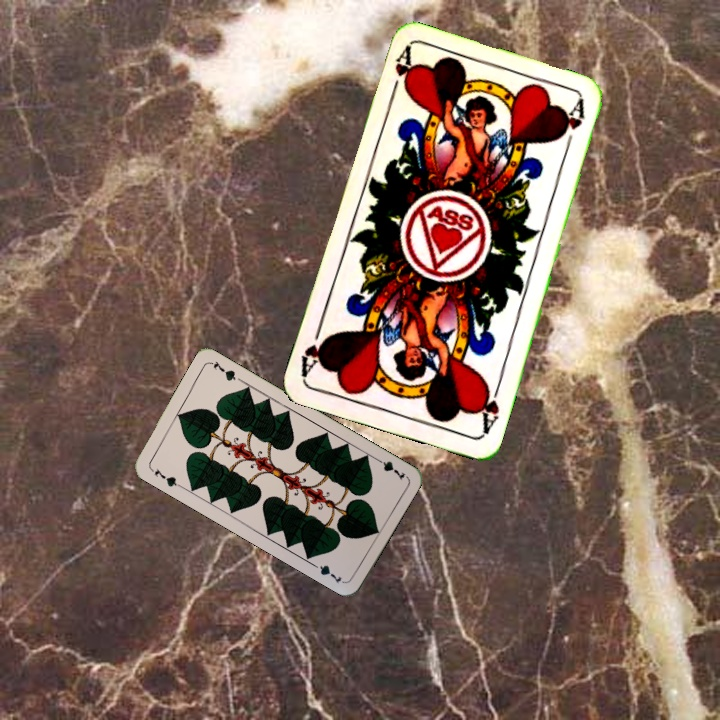G7: (371, 454, 408, 483), (146, 464, 183, 490)
HA: (386, 44, 417, 102), (473, 378, 503, 437)
